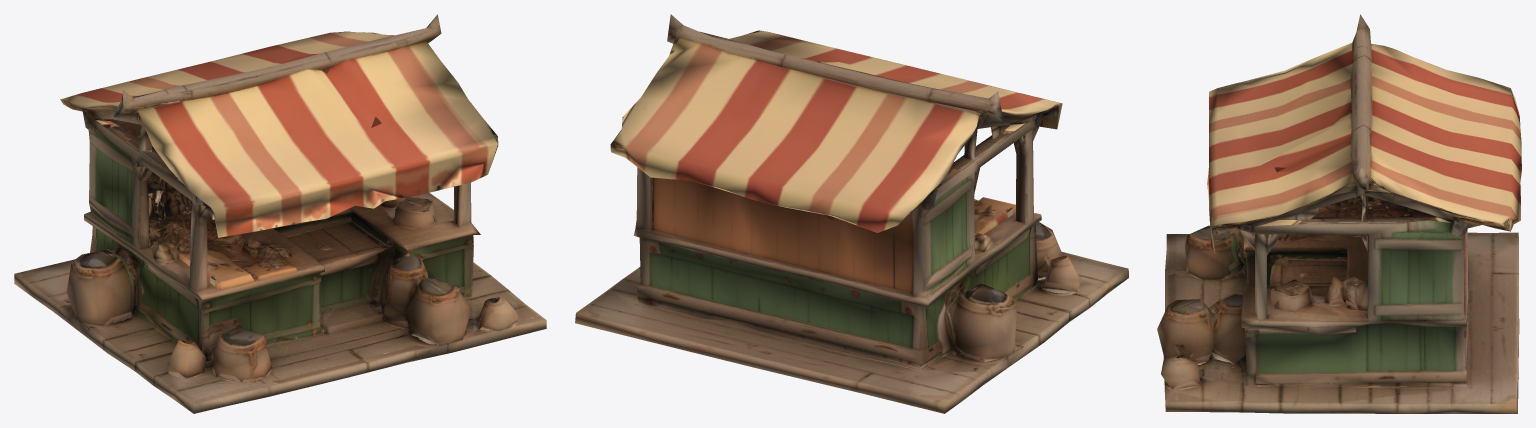
The model's file is trading_post.glb.
3 views of the same model, side by side, from view 1: azimuth 30°, elevation 25°; view 2: azimuth 150°, elevation 25°; view 3: azimuth 270°, elevation 25° (orthographic). The views are drawn at different scales.
Visible parts, largest first — view 1: Mesh1.0; view 2: Mesh1.0; view 3: Mesh1.0.
Boxes of the visible parts, box(x1,y1,x2,y2) form: Mesh1.0: box(14, 14, 546, 413); Mesh1.0: box(575, 14, 1128, 413); Mesh1.0: box(1157, 14, 1521, 413).
Bounding box in the file's own units: 1.91 × 1.24 × 1.7.
1 material, 1 textured.
